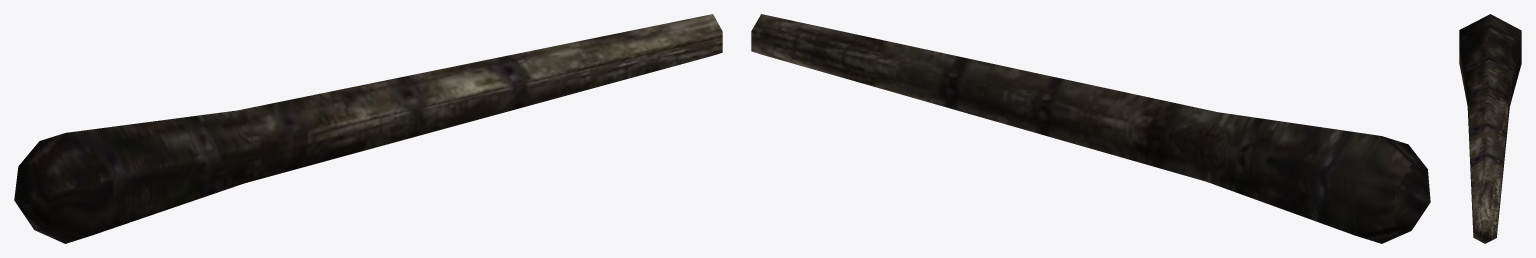
The model's file is ITLS_TORCHBURNED_01.glb.
The picture shows the model from 3 angles, left to right: view 1: azimuth 30°, elevation 25°; view 2: azimuth 150°, elevation 25°; view 3: azimuth 270°, elevation 25°; orthographic projection. The views are drawn at different scales.
Visible parts, largest first — view 1: Mesh; view 2: Mesh; view 3: Mesh.
Boxes of the visible parts, box(x1,y1,x2,y2) form: Mesh: box(14, 14, 722, 243); Mesh: box(751, 14, 1430, 243); Mesh: box(1459, 14, 1521, 243).
Size of the model in its own units: 0.5531 by 0.0846 by 0.0732.
Materials: 1 (1 with a texture image).
